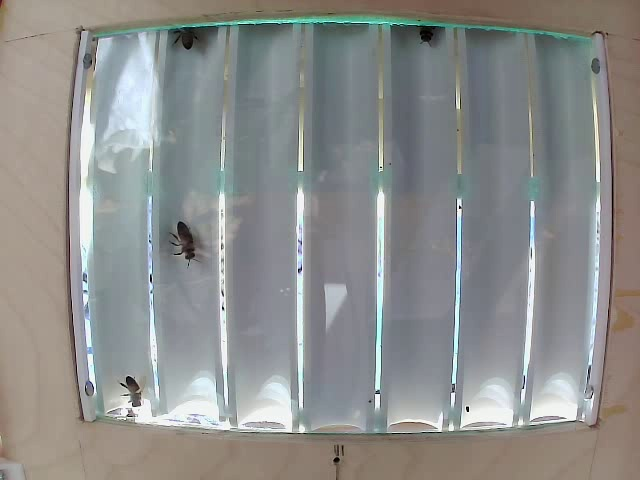bee: (171, 220, 203, 264)
